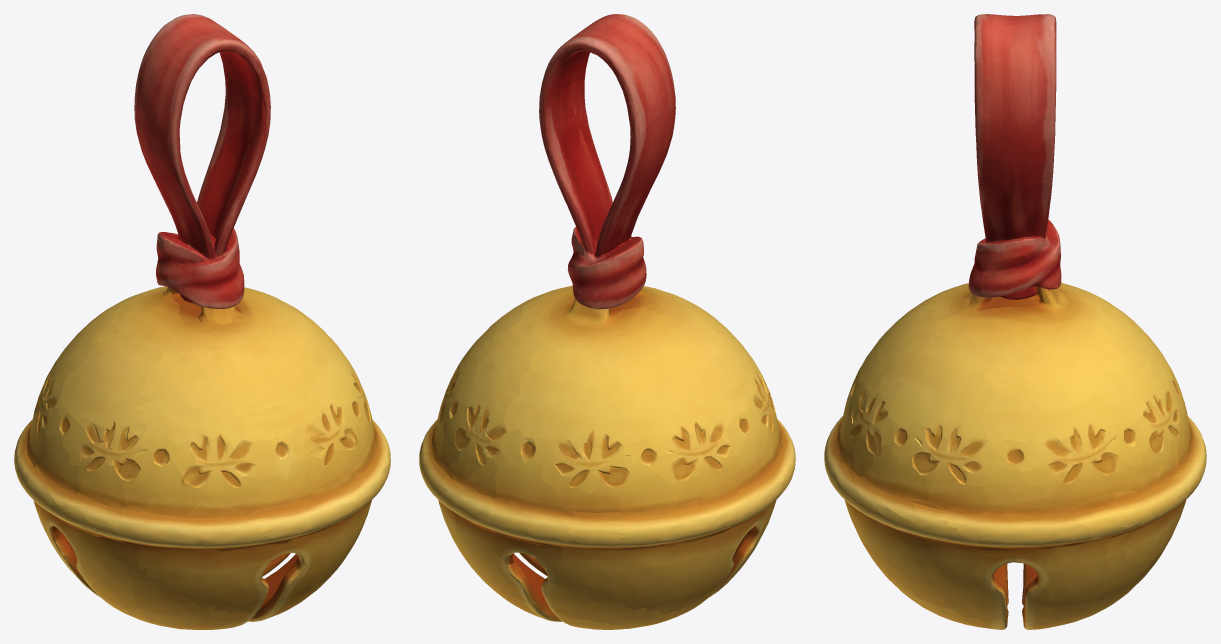
File: SM_JingleBell.fbx
3 views of the same model, side by side, from view 1: azimuth 30°, elevation 25°; view 2: azimuth 150°, elevation 25°; view 3: azimuth 270°, elevation 25° (orthographic).
Parts seen in each view (by area): view 1: SM_JingleBell_LOD0; view 2: SM_JingleBell_LOD0; view 3: SM_JingleBell_LOD0.
Part boxes in pixels (box(x1,y1,x2,y2)): SM_JingleBell_LOD0: box(14, 14, 390, 629); SM_JingleBell_LOD0: box(419, 14, 795, 629); SM_JingleBell_LOD0: box(824, 14, 1206, 629).
Size of what is drawn, in the model's own units: 11.7 by 11.7 by 20.
